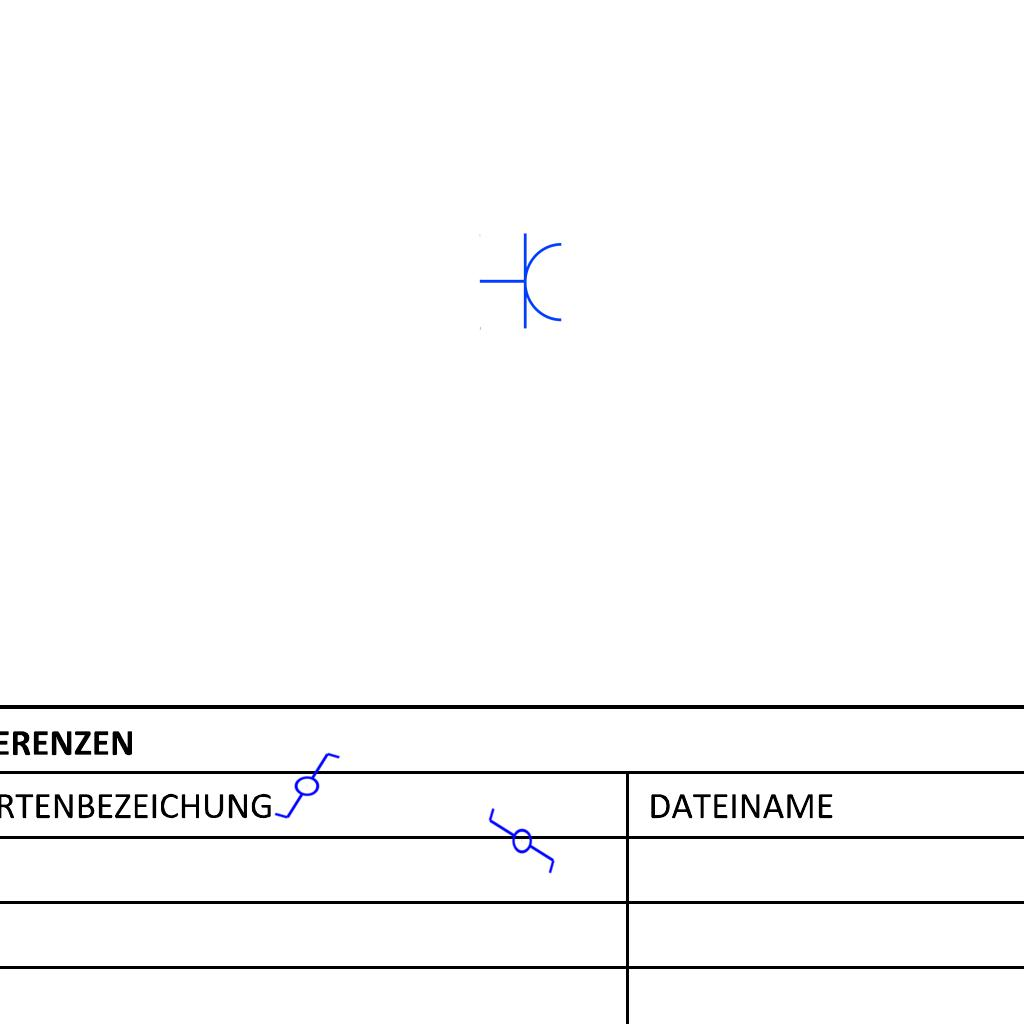Schukosteckdose_einfach: (479, 232, 566, 332)
Wechselschalter: (485, 806, 557, 884), (264, 749, 342, 821)
